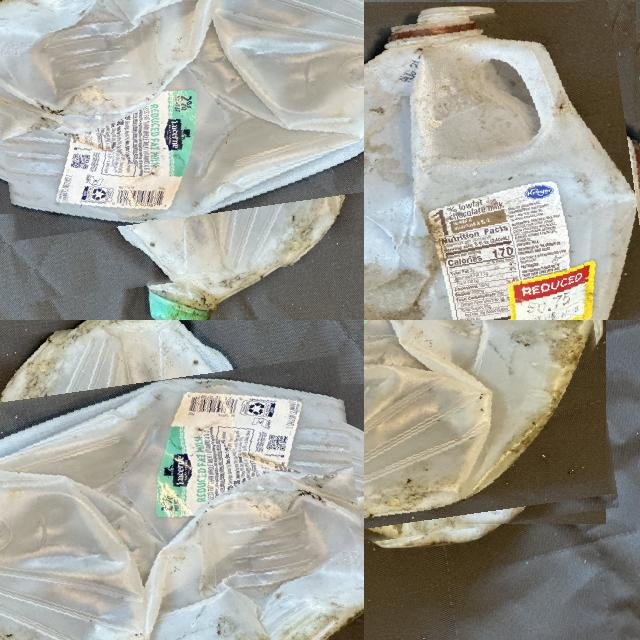milk-jug: (0, 320, 364, 640), (0, 0, 364, 290), (364, 7, 640, 320), (364, 320, 606, 551)
